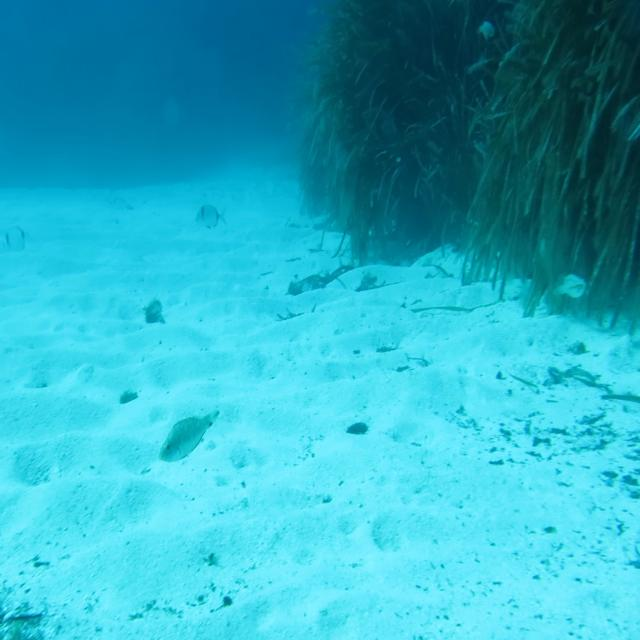BN: (158, 408, 220, 464)
female: (551, 273, 587, 300)
nest: (1, 601, 45, 640)
other_fish: (192, 202, 228, 231), (620, 103, 640, 150), (475, 14, 499, 45)
vegetation: (286, 0, 640, 338), (486, 342, 640, 584), (144, 296, 168, 332), (344, 413, 369, 437), (117, 388, 141, 408)
